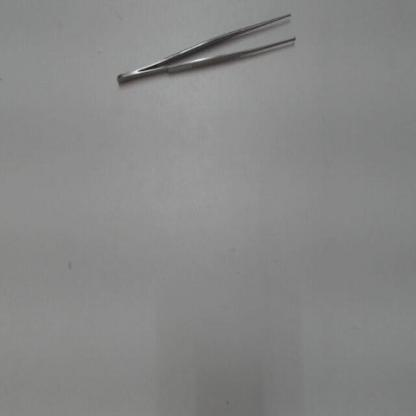Gillies Toothed Dissector: (110, 2, 305, 92)
